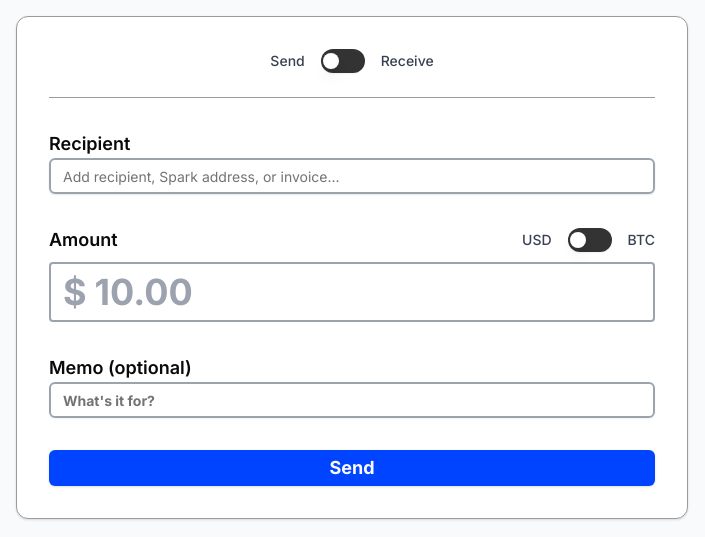
Test case: TransferPage › allows switching between send and receive modes
Expected: the button "Send" is shown, [49, 450, 655, 486]
// Switch to receive mode
Step 1. Click the switch named "transfer mode: send selected" → x=343, y=61, box [321, 49, 365, 73]
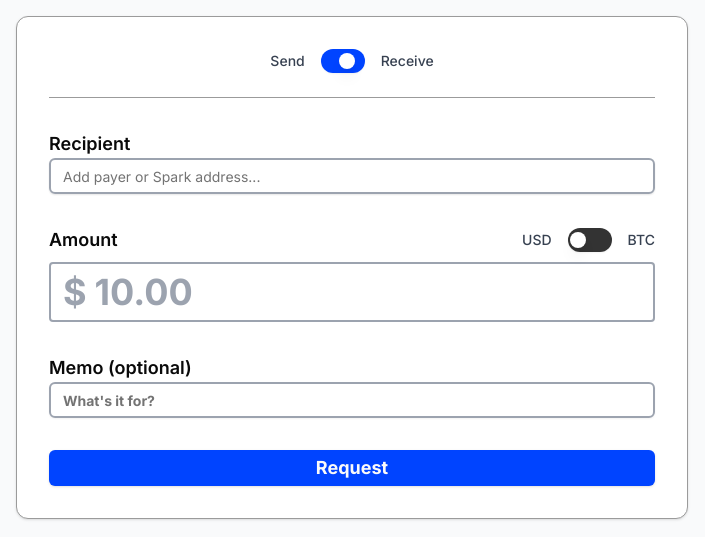
Result: the button "Request" is shown at [49, 450, 655, 486]
